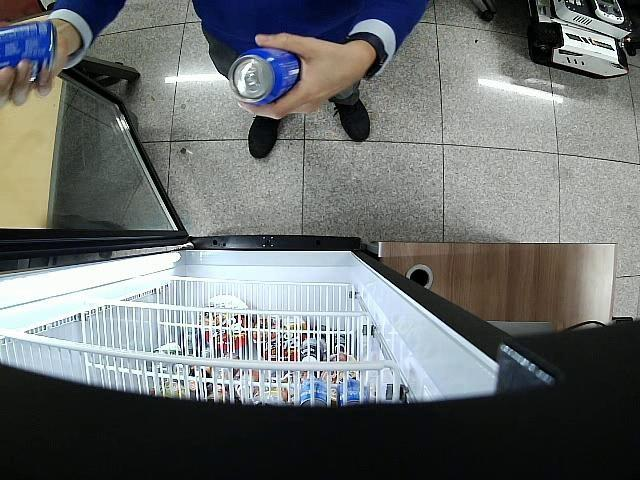13_pocariSweat: (228, 49, 302, 106), (0, 19, 58, 78)
